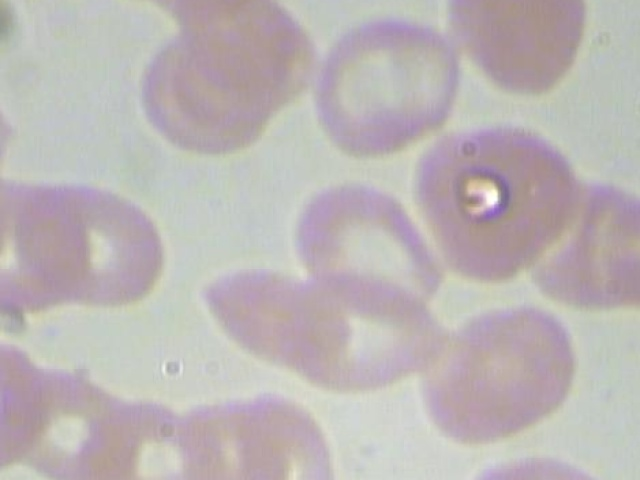RBC: (413, 111, 590, 289), (408, 294, 589, 453), (293, 0, 463, 161), (200, 247, 358, 379), (11, 172, 168, 304), (430, 0, 609, 103), (0, 356, 125, 480), (82, 383, 208, 480), (240, 390, 351, 480), (180, 386, 286, 480), (0, 320, 56, 480), (456, 455, 619, 480)
